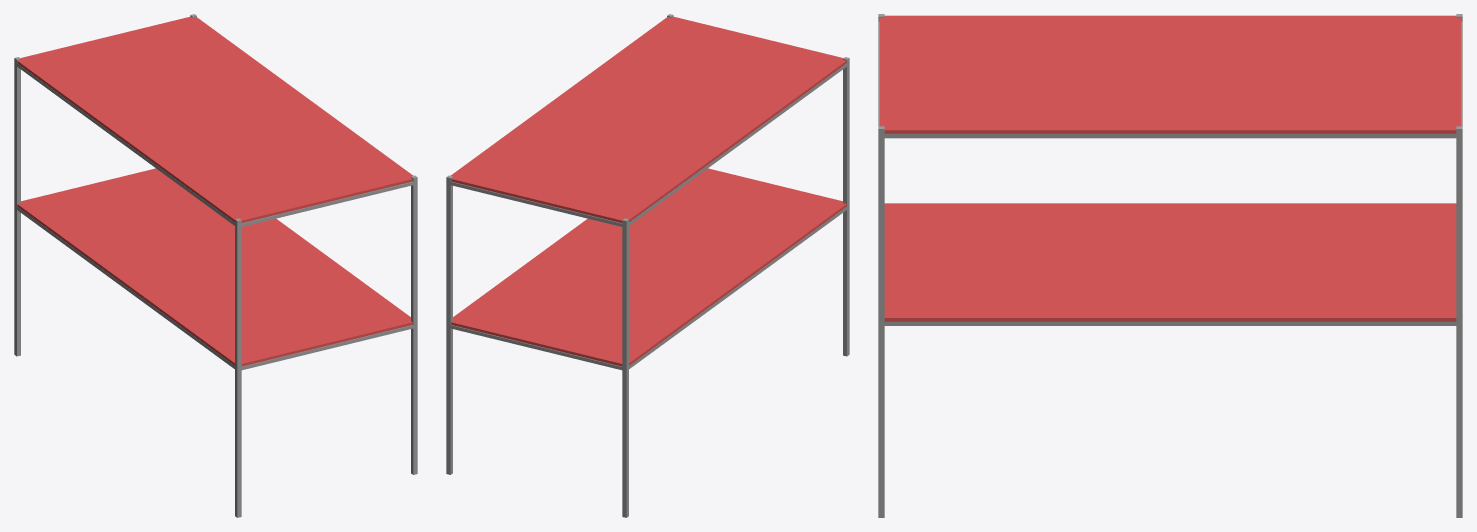
The model's file is SM_Shelf_01a.fbx.
The picture shows the model from 3 angles, left to right: view 1: azimuth 30°, elevation 25°; view 2: azimuth 150°, elevation 25°; view 3: azimuth 270°, elevation 25°; orthographic projection. The views are drawn at different scales.
Parts seen in each view (by area): view 1: SM_Shelf_01a; view 2: SM_Shelf_01a; view 3: SM_Shelf_01a.
Boxes of the visible parts, bbox=[...] form: SM_Shelf_01a: bbox=[14, 14, 417, 517]; SM_Shelf_01a: bbox=[446, 14, 849, 517]; SM_Shelf_01a: bbox=[878, 14, 1462, 517].
Bounding box in the file's own units: 197 × 310 × 423.
